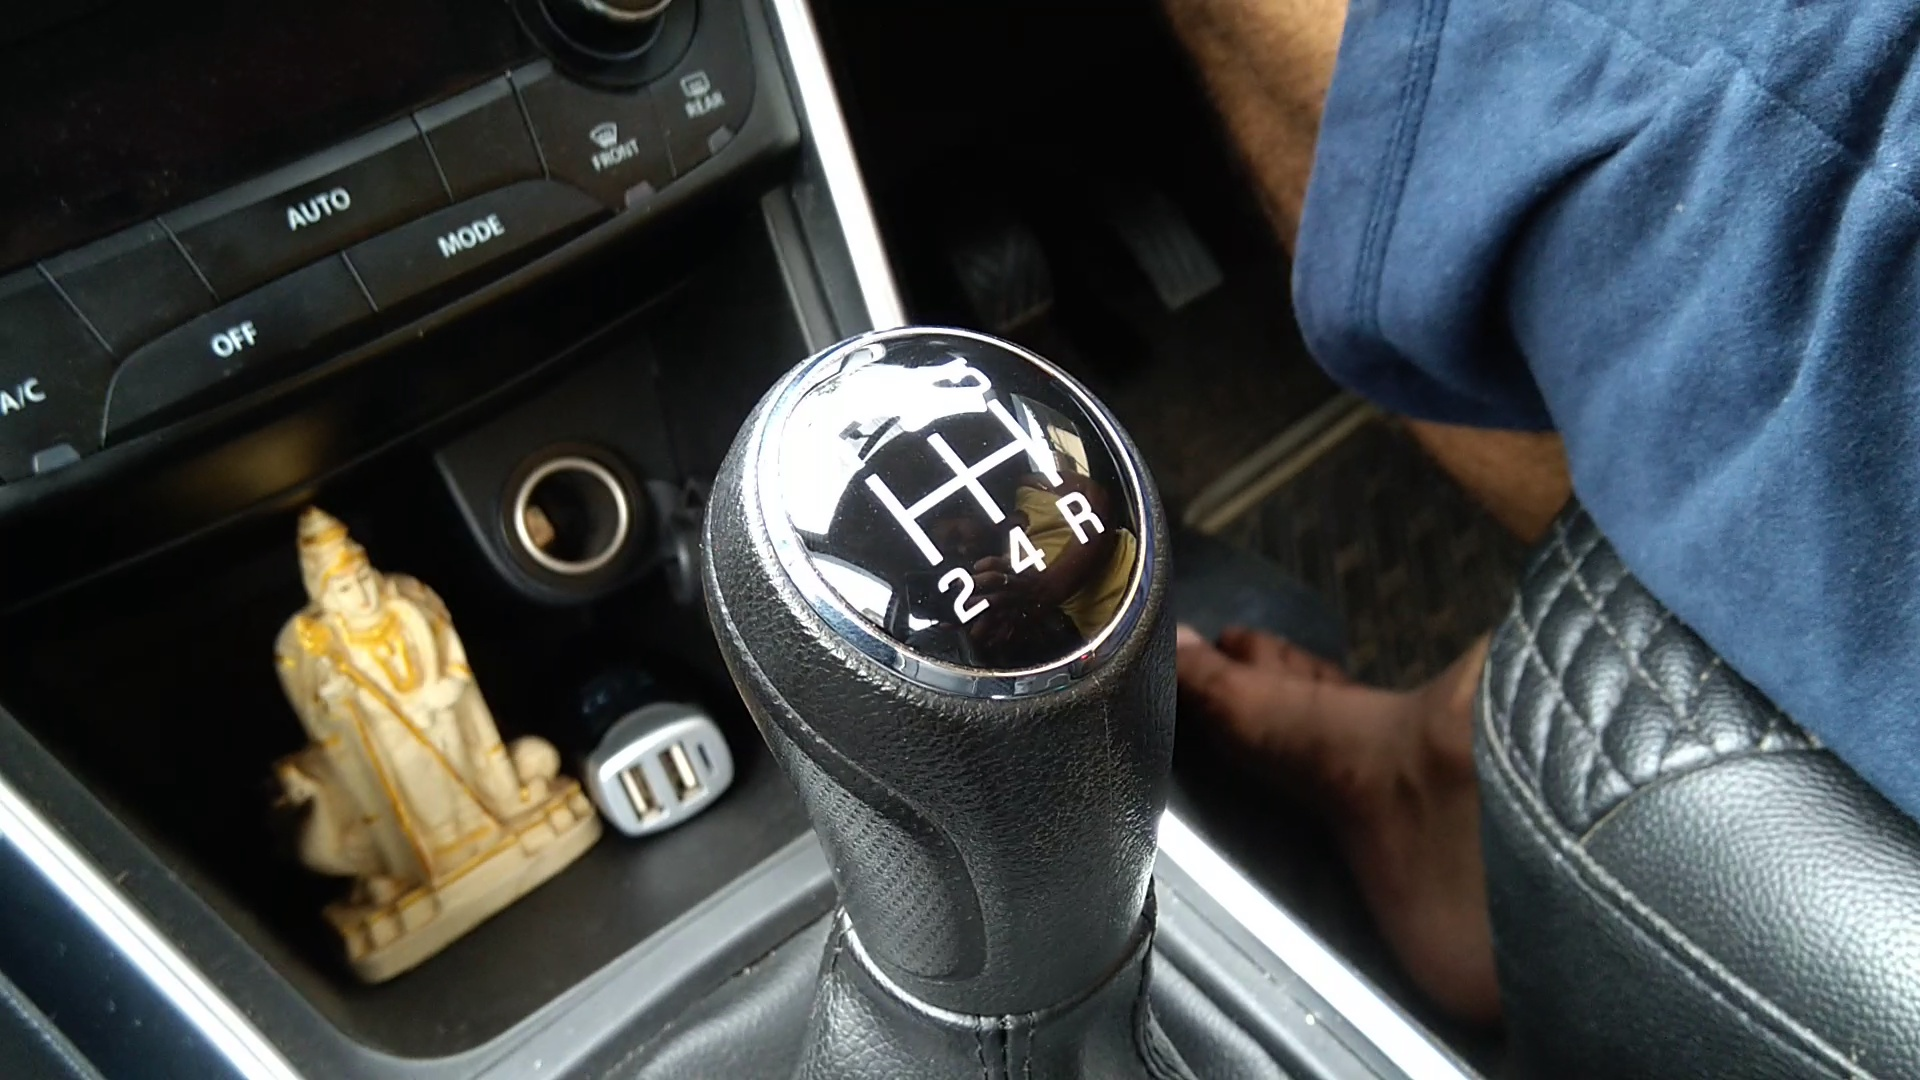manual_gear: (691, 315, 1176, 1027)
